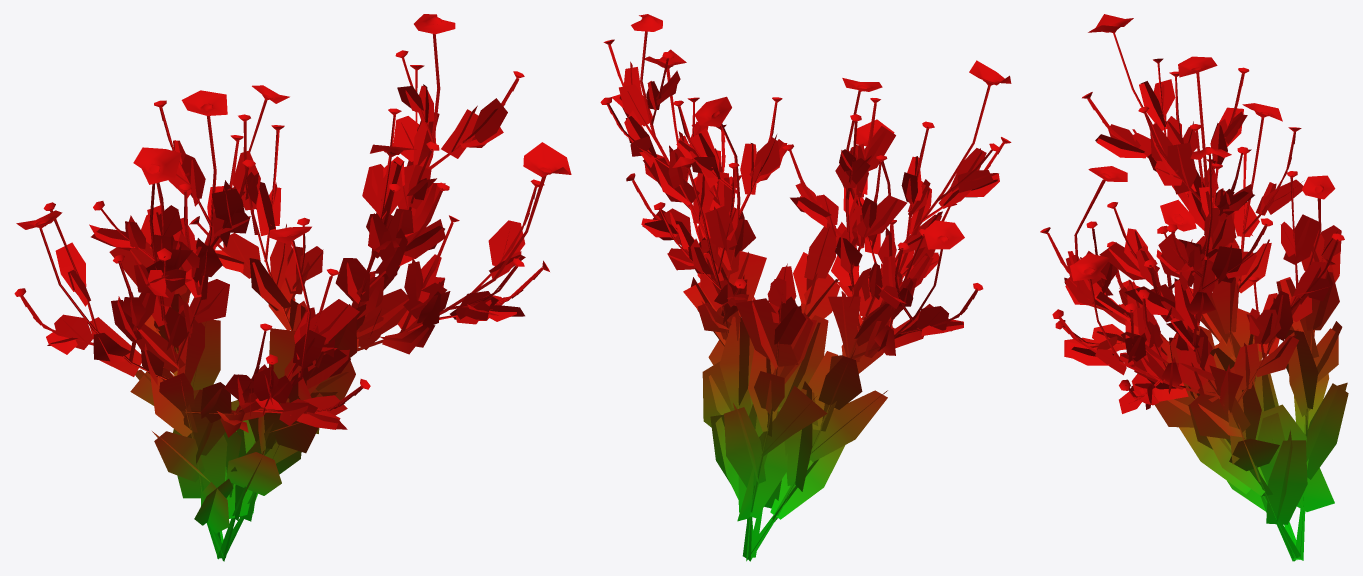
Rendered from Chamomile_LOD2_Var3.fbx.
The picture shows the model from 3 angles, left to right: view 1: azimuth 30°, elevation 25°; view 2: azimuth 150°, elevation 25°; view 3: azimuth 270°, elevation 25°; orthographic projection. The views are drawn at different scales.
Parts seen in each view (by area): view 1: _yabo_Var3_LOD2; view 2: _yabo_Var3_LOD2; view 3: _yabo_Var3_LOD2.
Part boxes in pixels (x1=…): _yabo_Var3_LOD2: x1=14, y1=14, x2=571, y2=561; _yabo_Var3_LOD2: x1=600, y1=14, x2=1011, y2=561; _yabo_Var3_LOD2: x1=1040, y1=14, x2=1348, y2=561.
Size of the model in its own units: 53.37 by 58.76 by 33.77.
